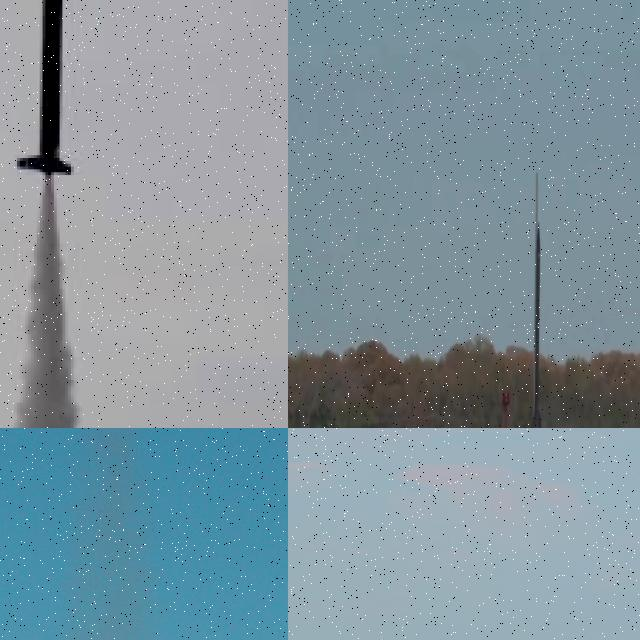Rocket: (12, 0, 77, 182), (530, 220, 542, 428)
